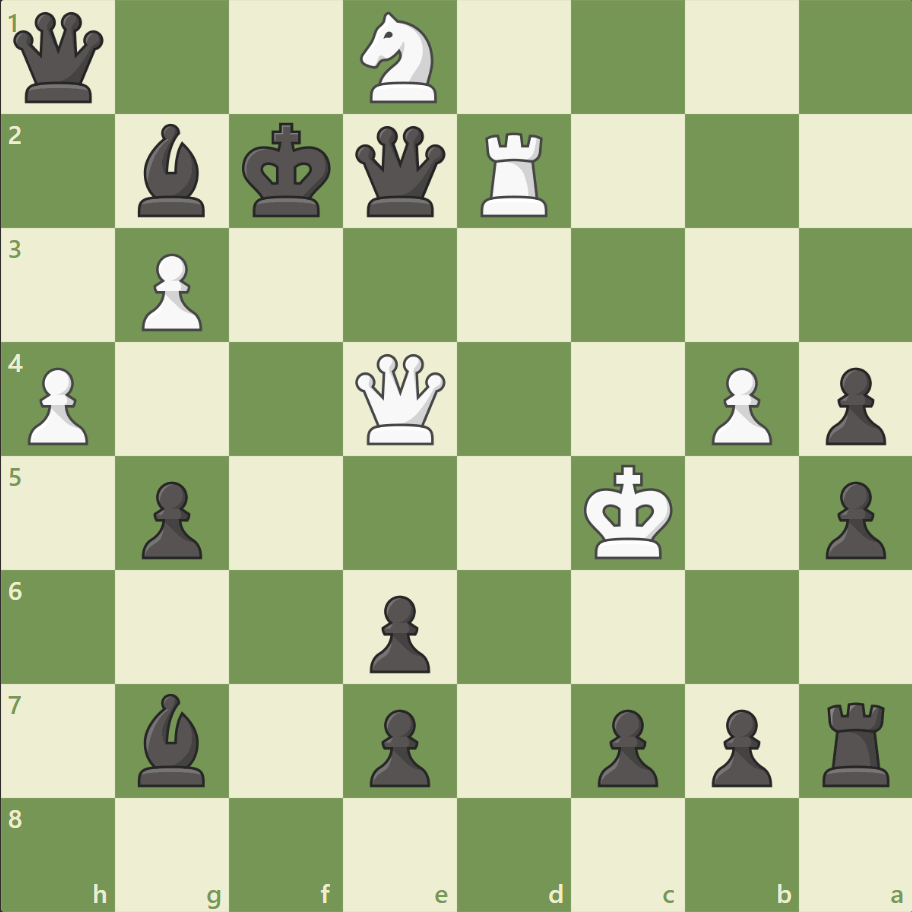K: (579, 458, 679, 566)
N: (351, 7, 449, 110)
P: (701, 359, 776, 450), (20, 359, 95, 450), (133, 246, 208, 337)
Q: (351, 349, 450, 449)
R: (473, 125, 556, 222)
b: (131, 687, 215, 790), (131, 120, 215, 222)
k: (238, 117, 338, 225)
p: (701, 700, 776, 791), (133, 473, 208, 564), (588, 700, 662, 791), (361, 700, 435, 791), (361, 586, 435, 677), (815, 473, 889, 564), (815, 359, 889, 450)
q: (351, 122, 450, 222), (10, 9, 109, 108)
r: (814, 693, 897, 790)
